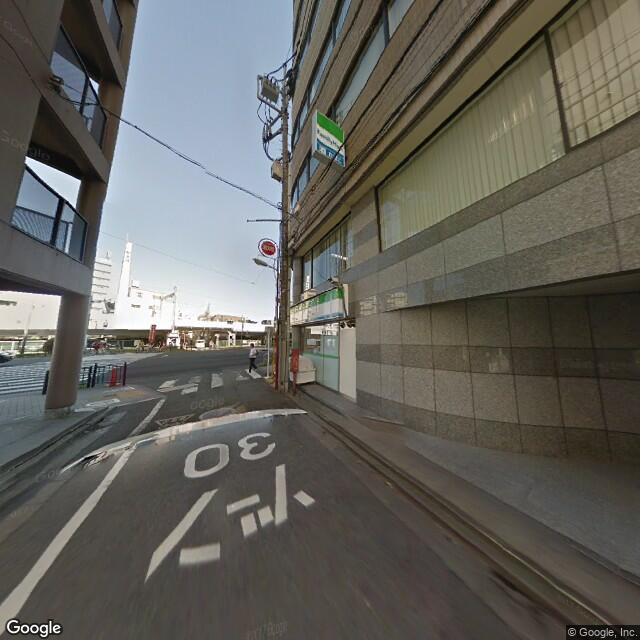family_mart: (289, 287, 345, 324), (314, 111, 346, 164)
